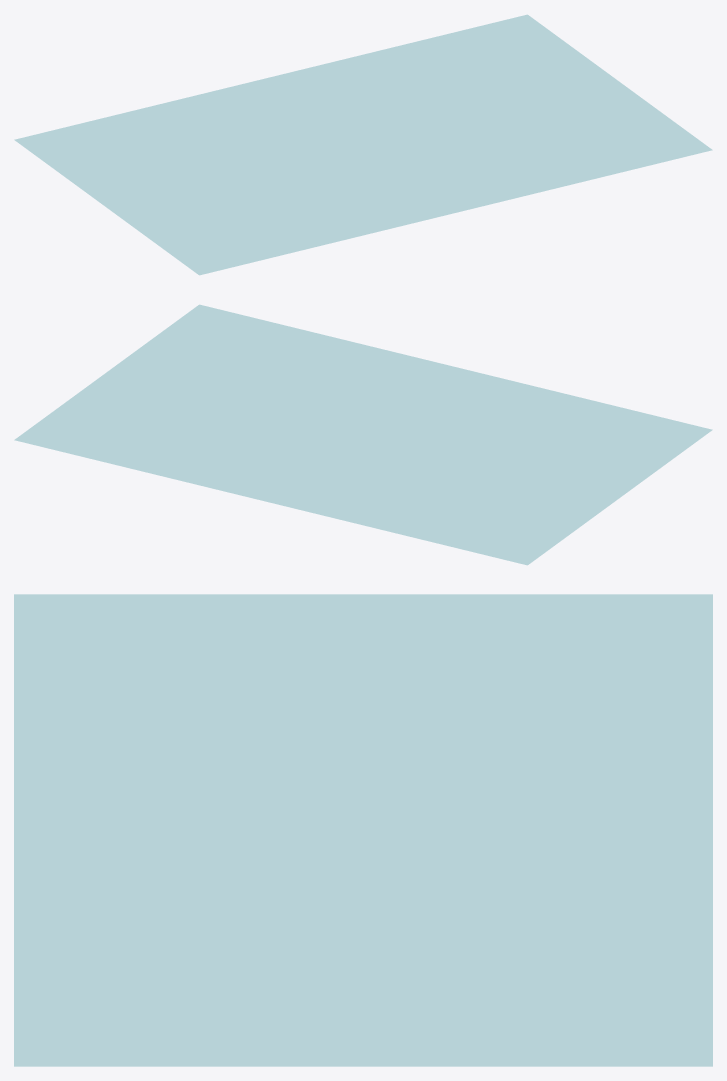
File: butterfly.glb
The picture shows the model from 3 angles, top to bottom: view 1: azimuth 30°, elevation 25°; view 2: azimuth 150°, elevation 25°; view 3: azimuth 270°, elevation 25°; orthographic projection. The views are drawn at different scales.
Visible parts, largest first — view 1: Plane001; view 2: Plane001; view 3: Plane001.
Part boxes in pixels (bbox=[...]): Plane001: bbox=[14, 14, 712, 275]; Plane001: bbox=[14, 304, 712, 565]; Plane001: bbox=[14, 594, 712, 1066].
Size of the model in its own units: 1.6 by 1.69e-07 by 1.
